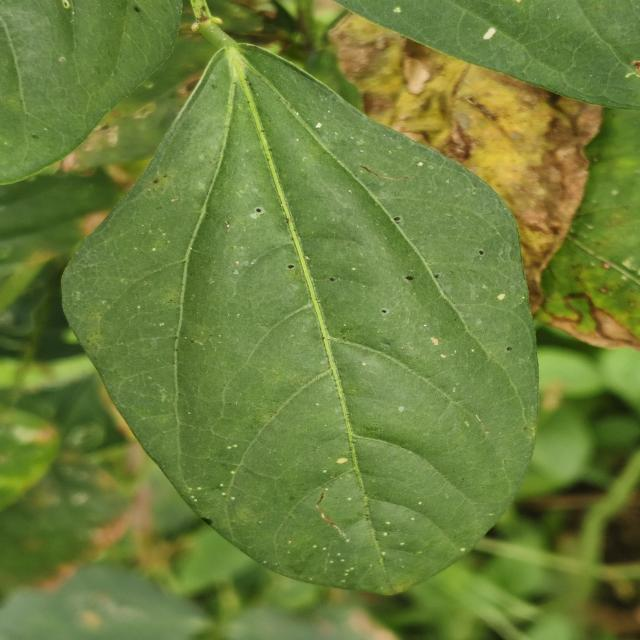leaf-low: (65, 46, 538, 592)
